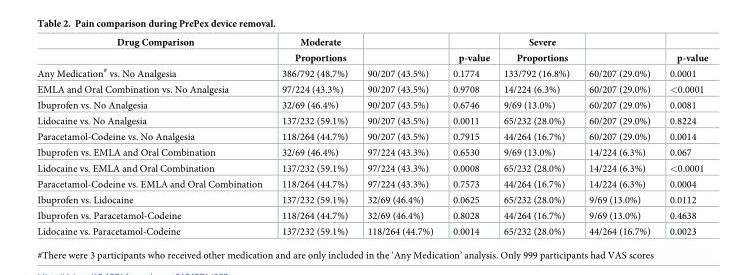table: (36, 36, 707, 236)
table column: (36, 36, 271, 236), (356, 36, 442, 236), (271, 36, 356, 236), (495, 36, 578, 236), (578, 36, 659, 236), (442, 36, 495, 236), (659, 36, 707, 236)
table column header: (36, 36, 707, 64)
table row: (36, 64, 707, 81), (36, 81, 707, 97), (36, 112, 707, 128), (36, 128, 707, 144), (36, 144, 707, 160), (36, 160, 707, 176), (36, 191, 707, 207), (36, 207, 707, 223), (36, 49, 707, 64), (36, 97, 707, 112), (36, 176, 707, 191), (36, 36, 707, 49), (36, 223, 707, 236)
table spanning cell: (36, 36, 271, 64), (271, 36, 356, 64), (495, 36, 578, 64), (442, 36, 495, 64), (659, 36, 707, 64)
